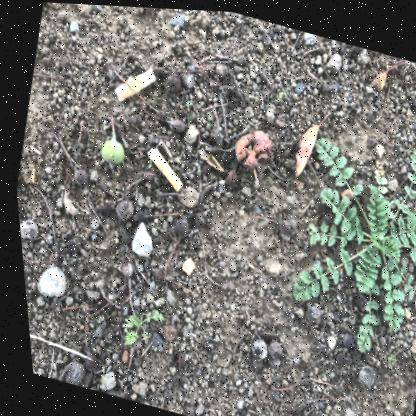Waste: (144, 146, 179, 190), (112, 66, 154, 101)
